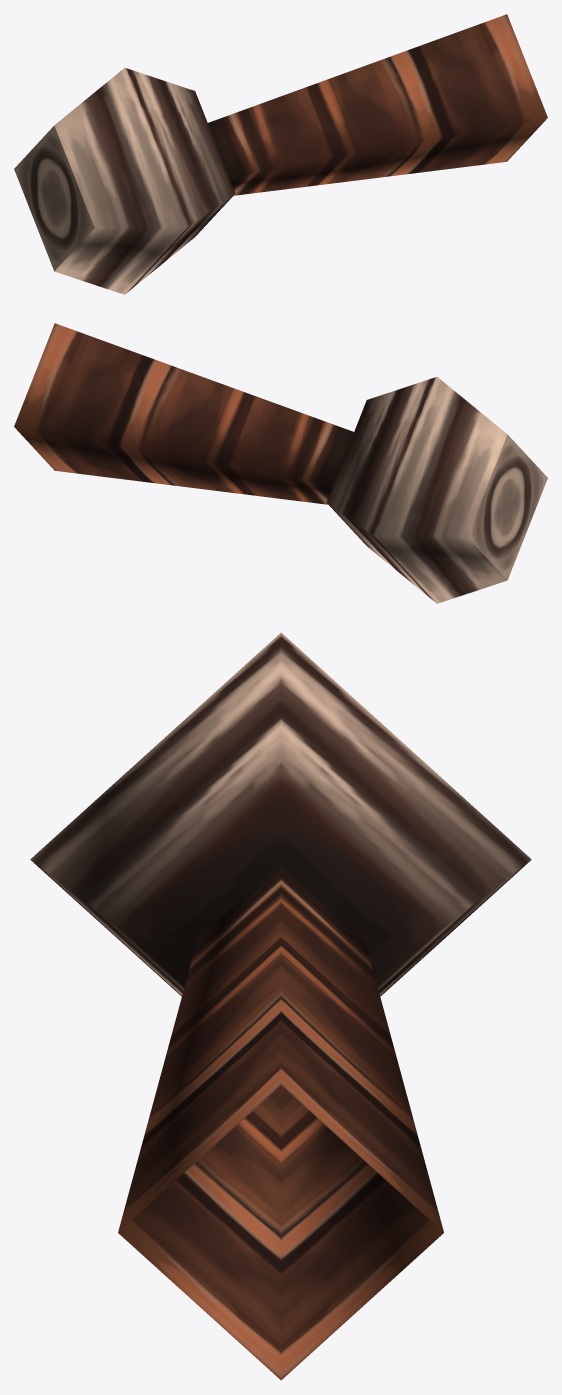
Rendered from electricFencePole_01.fbx.
The picture shows the model from 3 angles, top to bottom: view 1: azimuth 30°, elevation 25°; view 2: azimuth 150°, elevation 25°; view 3: azimuth 270°, elevation 25°; orthographic projection. The views are drawn at different scales.
Visible parts, largest first — view 1: electricFencePole; view 2: electricFencePole; view 3: electricFencePole.
Part boxes in pixels (<box>): electricFencePole: <box>14,14,547,294</box>; electricFencePole: <box>14,323,547,603</box>; electricFencePole: <box>30,632,531,1380</box>.
Size of the model in its own units: 0.9848 by 0.4721 by 0.4725.
Materials: 1 (1 with a texture image).
